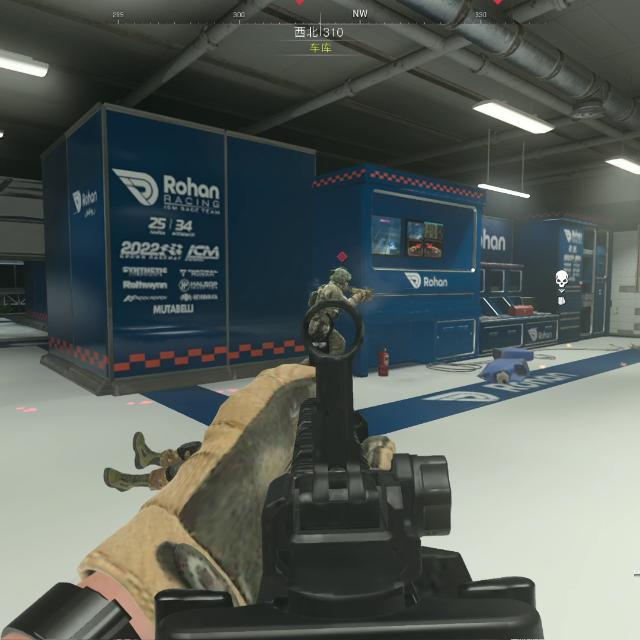MW2_body: (311, 250, 368, 357)
